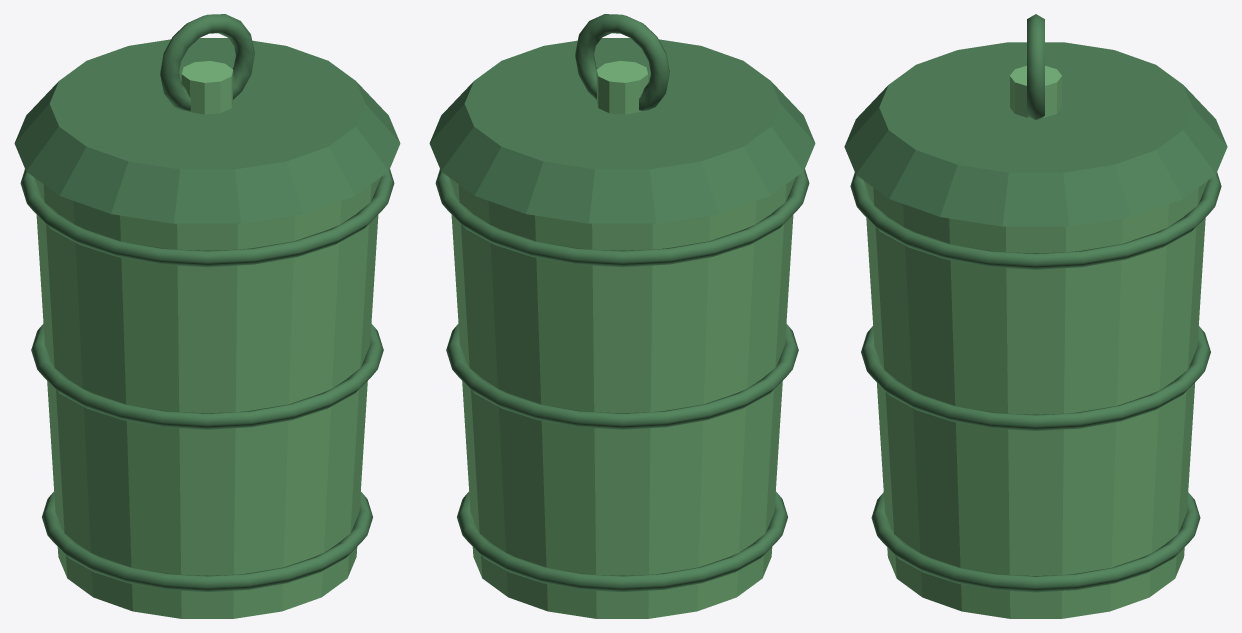
The model's file is TrashCan.glb.
3 renders of one model, left to right at view 1: azimuth 30°, elevation 25°; view 2: azimuth 150°, elevation 25°; view 3: azimuth 270°, elevation 25°, orthographic.
Visible parts, largest first — view 1: TrashCan_Body, Lid_Top, TrashCan_Rib47, TrashCan_Rib26, TrashCan_Rib5, Lid_Handle, Lid_Knob; view 2: TrashCan_Body, Lid_Top, TrashCan_Rib47, TrashCan_Rib26, TrashCan_Rib5, Lid_Handle, Lid_Knob; view 3: TrashCan_Body, Lid_Top, TrashCan_Rib47, TrashCan_Rib26, TrashCan_Rib5, Lid_Handle, Lid_Knob.
Part boxes in pixels (x1,y1,x2,y2): TrashCan_Body: (34,177,380,618); Lid_Top: (14,38,400,223); TrashCan_Rib47: (20,169,394,267); TrashCan_Rib26: (31,324,383,429); TrashCan_Rib5: (42,491,372,592); Lid_Handle: (160,14,254,110); Lid_Knob: (181,61,233,114); TrashCan_Body: (449,177,795,618); Lid_Top: (429,38,815,223); TrashCan_Rib47: (435,169,809,267); TrashCan_Rib26: (446,324,798,429); TrashCan_Rib5: (457,491,787,592); Lid_Handle: (575,14,669,110); Lid_Knob: (596,61,648,114); TrashCan_Body: (864,181,1207,618); Lid_Top: (844,42,1227,226); TrashCan_Rib47: (850,172,1221,269); TrashCan_Rib26: (861,326,1210,430); TrashCan_Rib5: (871,492,1200,592); Lid_Handle: (1027,14,1044,119); Lid_Knob: (1010,65,1061,117).
Bounding box in the file's own units: 0.4333 × 0.682 × 0.44.
